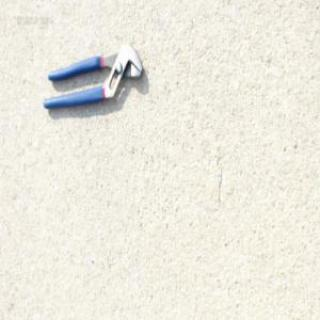Pliertrack_idkeyframe: (41, 44, 142, 112)
